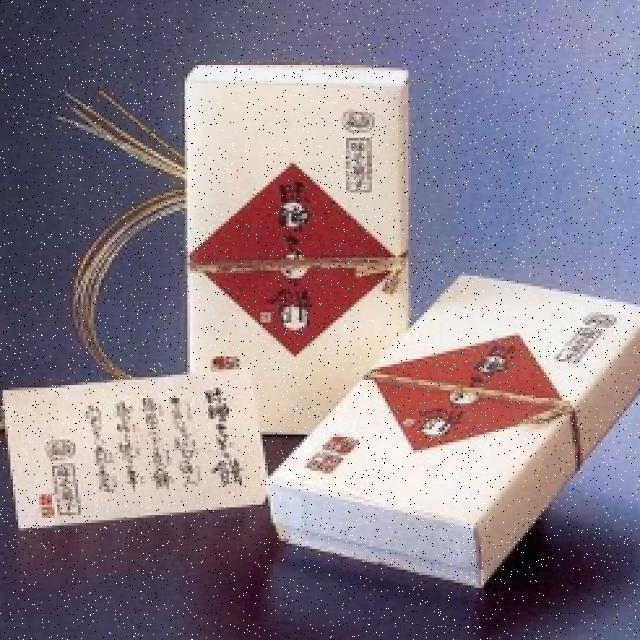box: (268, 262, 640, 568), (164, 62, 420, 438)
